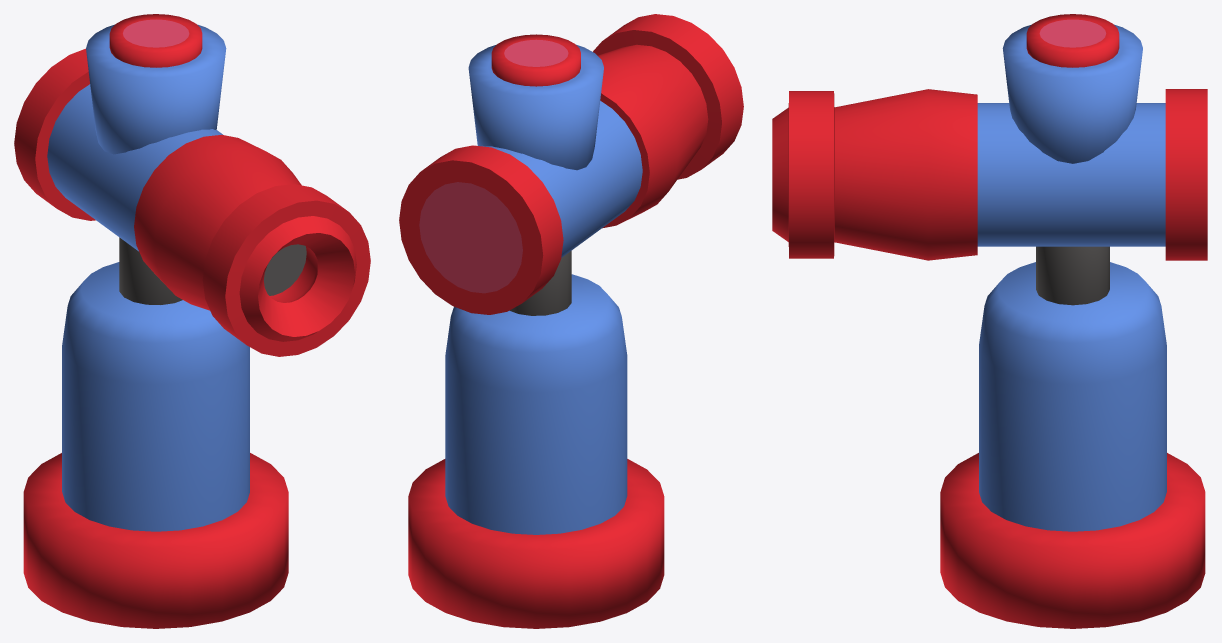
Rendered from Obstacle 28 V1.fbx.
The picture shows the model from 3 angles, left to right: view 1: azimuth 30°, elevation 25°; view 2: azimuth 150°, elevation 25°; view 3: azimuth 270°, elevation 25°; orthographic projection. The views are drawn at different scales.
Parts seen in each view (by area): view 1: 028 Part 2, 028 Part 1; view 2: 028 Part 2, 028 Part 1; view 3: 028 Part 2, 028 Part 1.
Boxes of the visible parts, box(x1,y1,x2,y2) form: 028 Part 2: box(23, 14, 288, 628); 028 Part 1: box(14, 48, 370, 356); 028 Part 2: box(408, 34, 664, 628); 028 Part 1: box(399, 14, 743, 314); 028 Part 2: box(940, 14, 1205, 628); 028 Part 1: box(772, 89, 1207, 260).
Size of the model in its own units: 45.05 by 101 by 74.06.
1 material, 1 textured.
